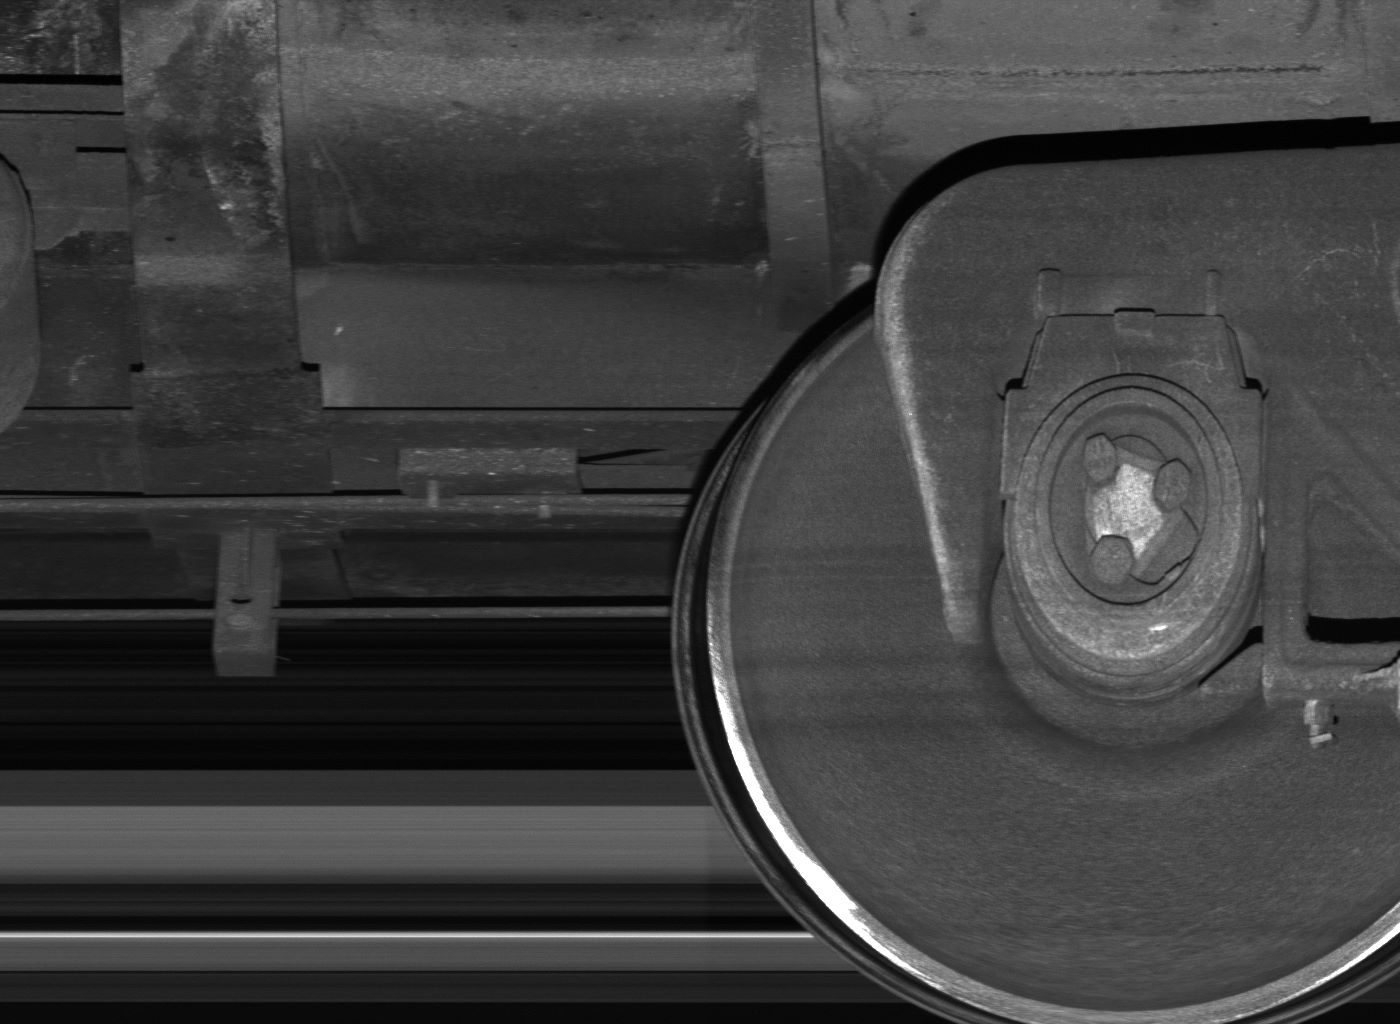normal: (213, 530, 282, 679)
